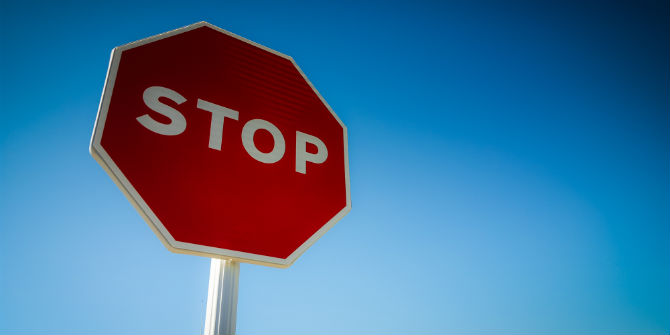stop: (90, 20, 355, 271), (90, 19, 355, 242), (131, 20, 355, 255), (90, 41, 355, 227), (89, 18, 279, 271), (89, 17, 242, 267)
